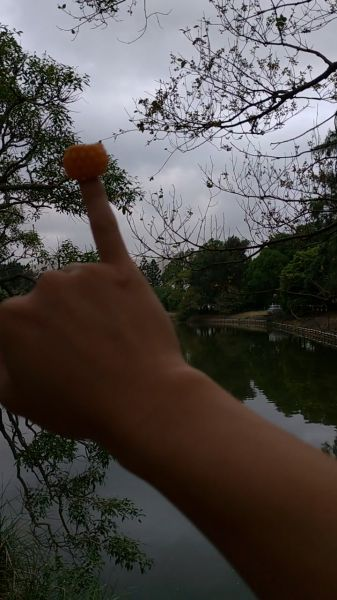eggs: (62, 143, 108, 180)
